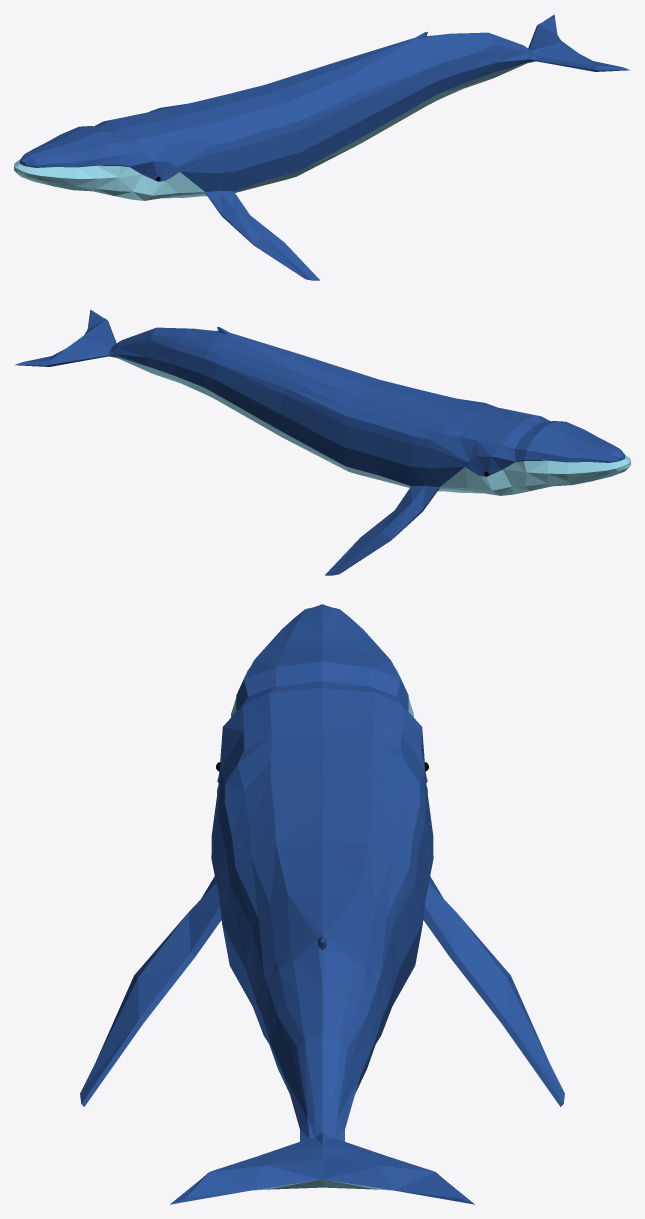
File: BlueWhale_model_colored.fbx
The picture shows the model from 3 angles, top to bottom: view 1: azimuth 30°, elevation 25°; view 2: azimuth 150°, elevation 25°; view 3: azimuth 270°, elevation 25°; orthographic projection. The views are drawn at different scales.
Visible parts, largest first — view 1: Whale; view 2: Whale; view 3: Whale.
Part boxes in pixels (x1=…): Whale: x1=14, y1=14, x2=630, y2=280; Whale: x1=14, y1=309, x2=630, y2=575; Whale: x1=80, y1=604, x2=564, y2=1204.
Size of the model in its own units: 471 by 128 by 171.
